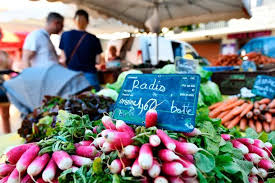carrot: (202, 83, 275, 137)
raddish: (2, 111, 208, 183)
